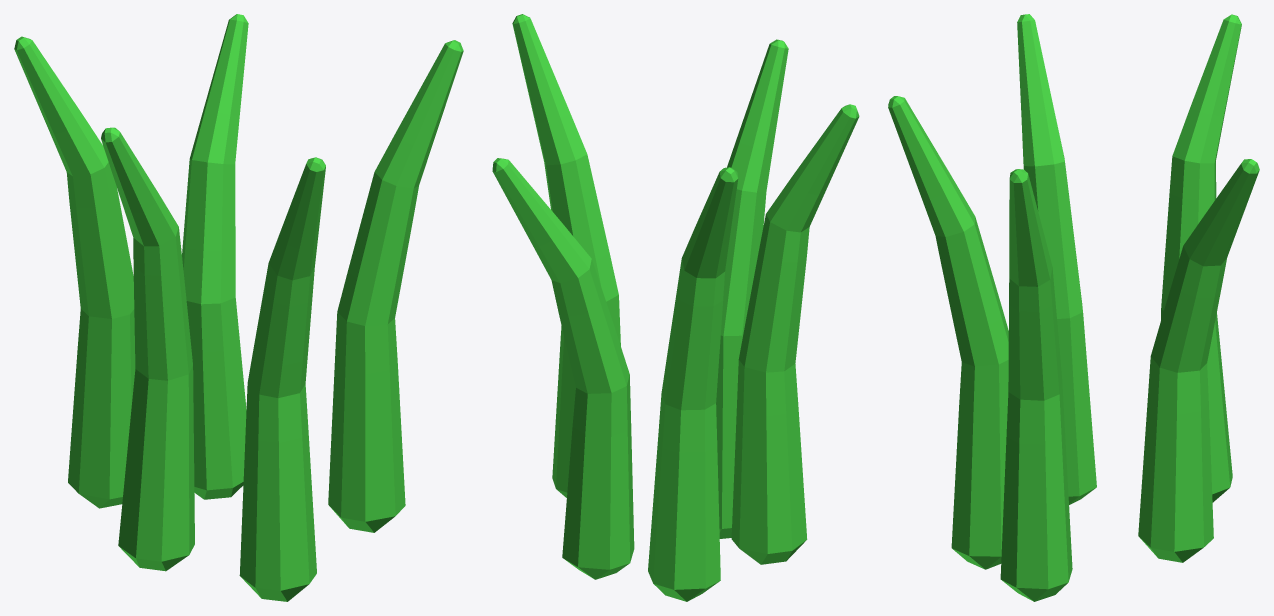
Rendered from Grass3.fbx.
3 renders of one model, left to right at view 1: azimuth 30°, elevation 25°; view 2: azimuth 150°, elevation 25°; view 3: azimuth 270°, elevation 25°, orthographic. The views are drawn at different scales.
Parts seen in each view (by area): view 1: Vert.002; view 2: Vert.002; view 3: Vert.002.
Part boxes in pixels (x1,y1,x2,y2): Vert.002: (14, 14, 463, 601); Vert.002: (492, 14, 859, 601); Vert.002: (888, 14, 1259, 601).
Bounding box in the file's own units: 20.16 × 26.95 × 18.69.
